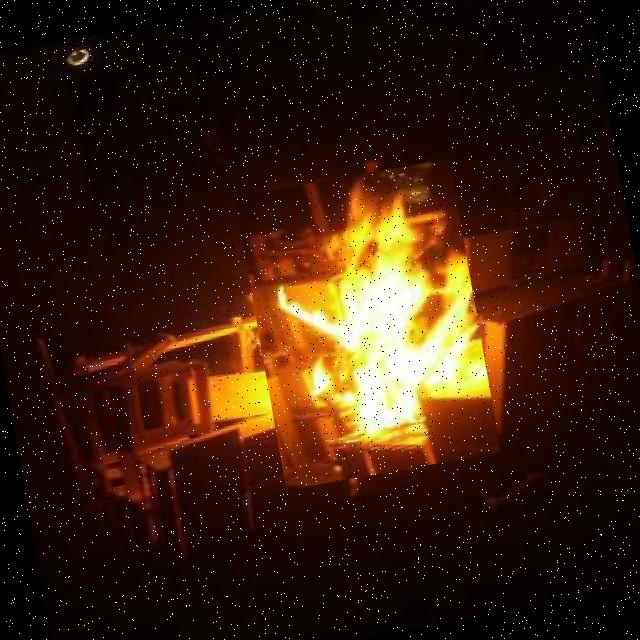fire: (234, 158, 500, 490)
